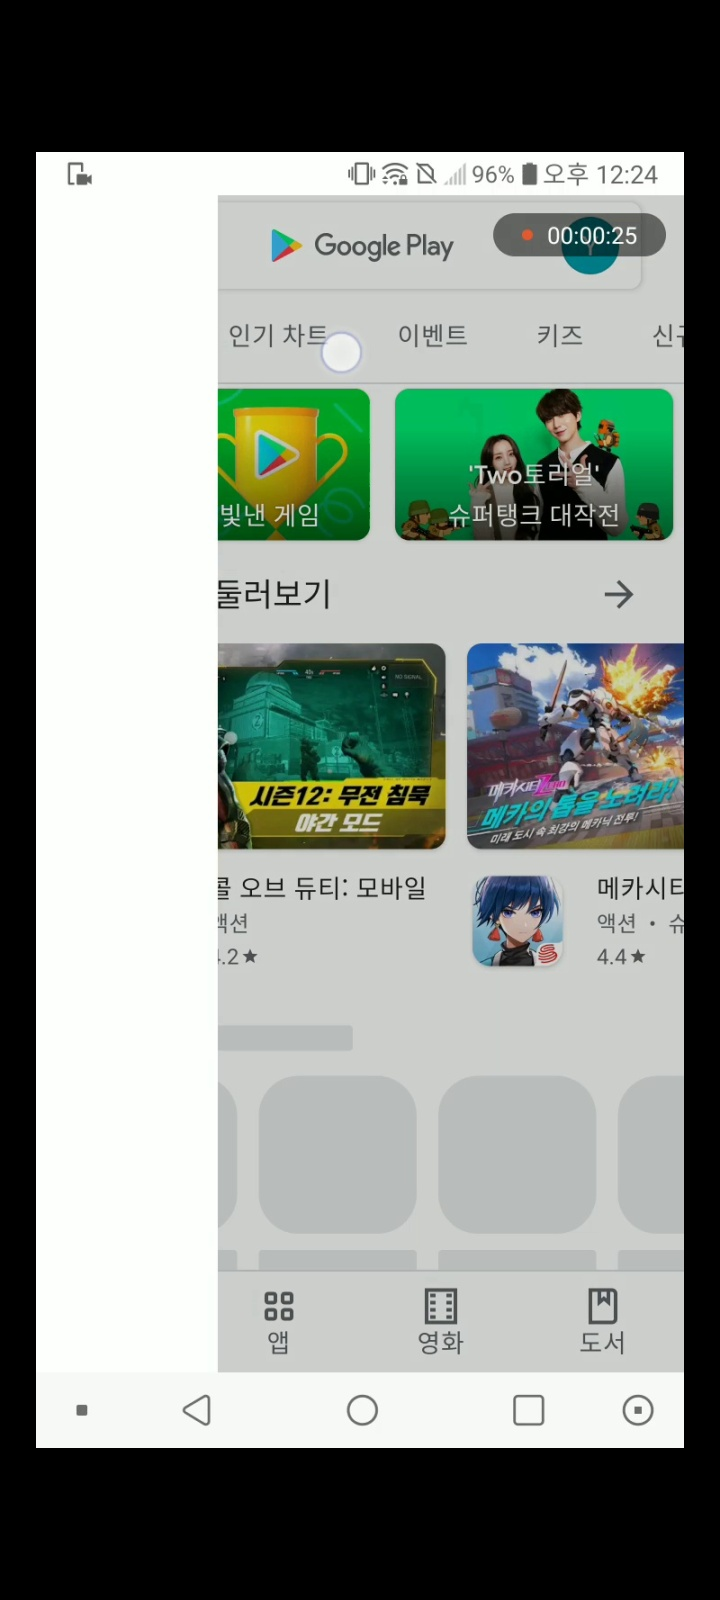Cursor: (319, 331, 364, 376)
